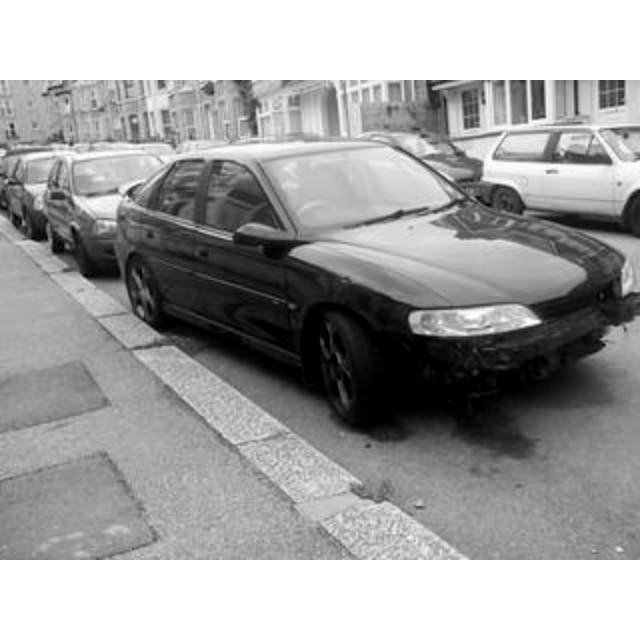front-bumper-dent: (410, 308, 638, 404)
